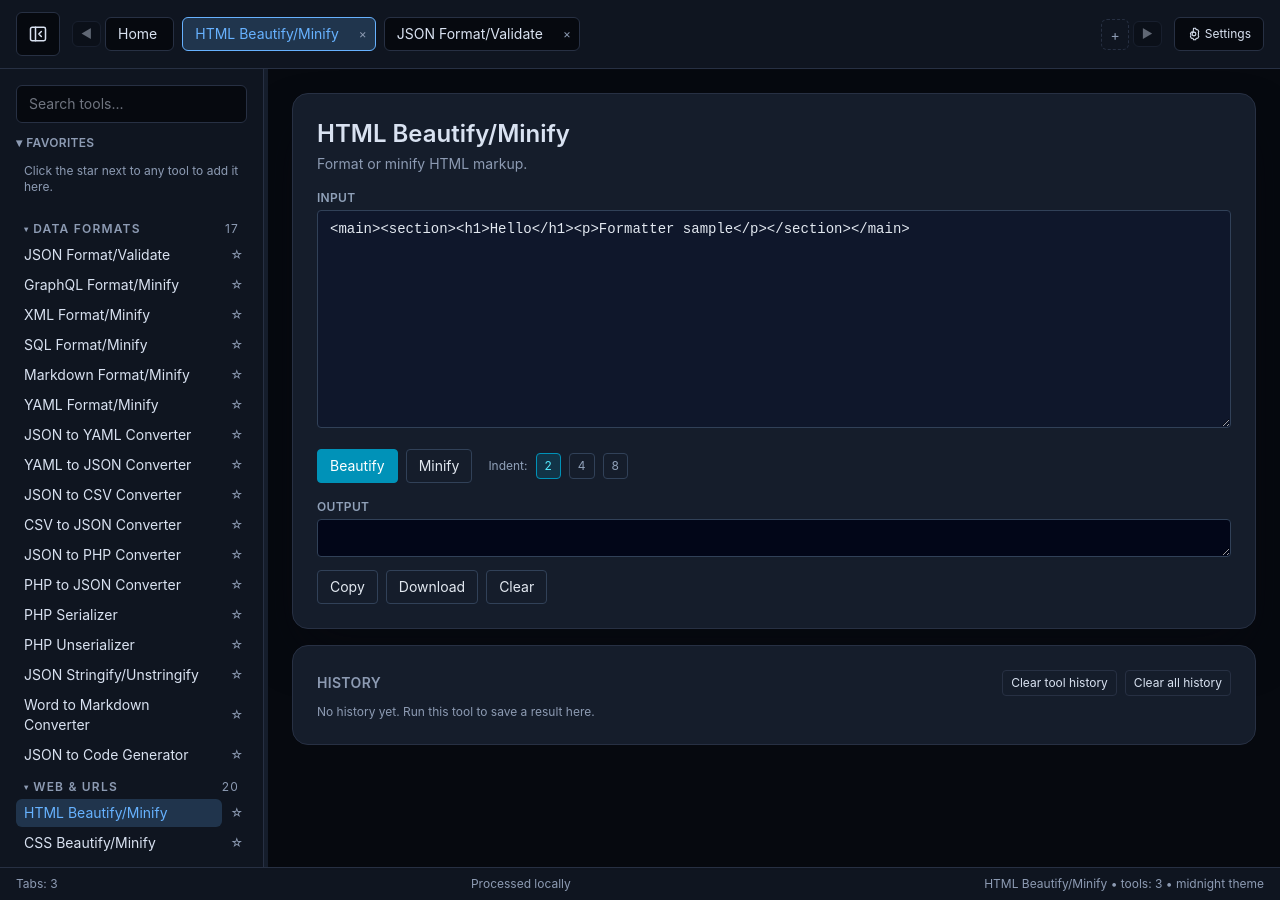
Test: App UI › restores session tabs only when the startup setting requests them
The image size is (1280, 900).
expect the heading "HTML Beautify/Minify" is shown: met, box [317, 119, 570, 148]
expect the button "Home" is shown: met, box [106, 18, 169, 50]
Click the 2nd button "HTML Beautify/Minify": x=119, y=813 [16, 799, 222, 827]
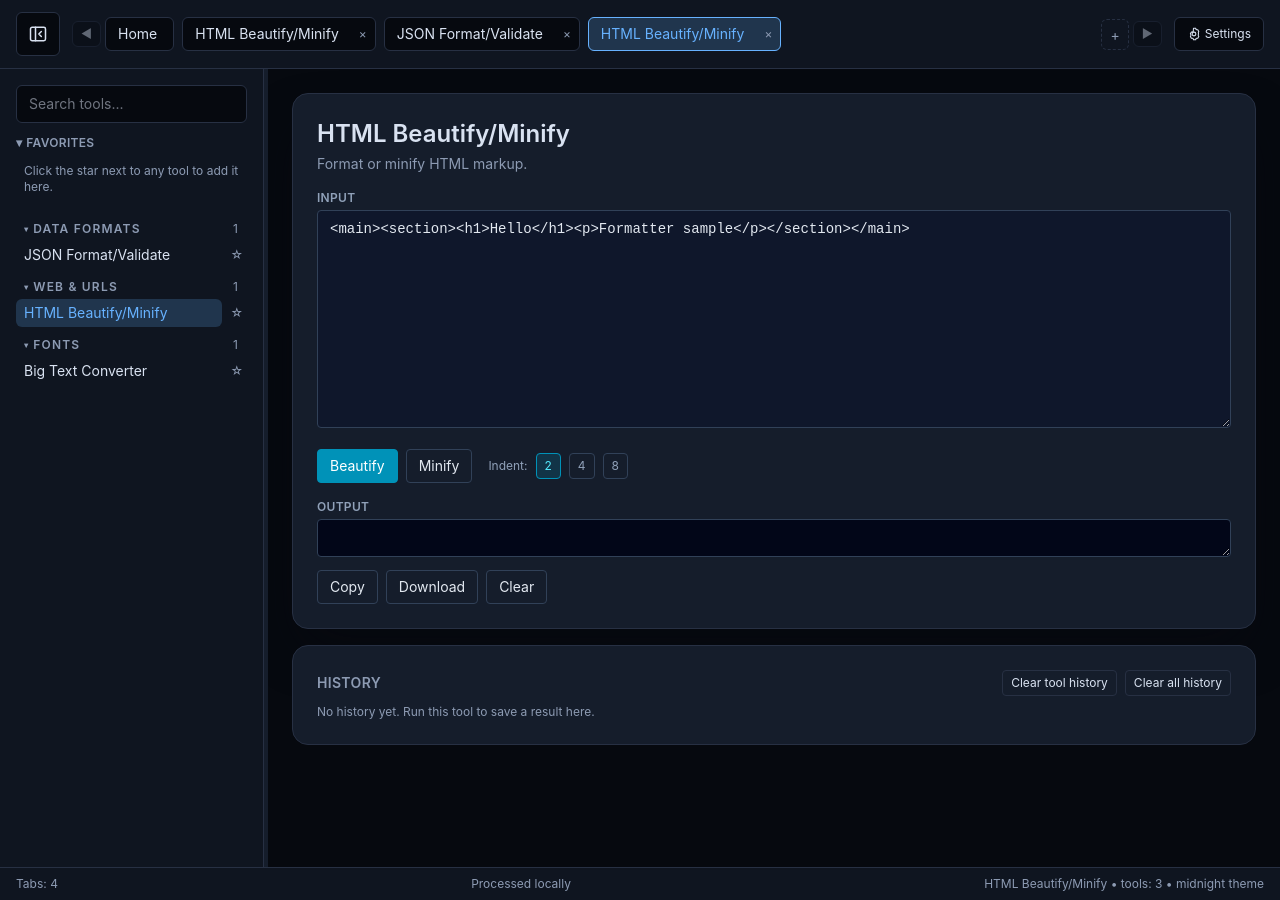
expect the number of buttons named "Close HTML Beautify/Minify" is 2: met, box [355, 24, 371, 44]; [760, 24, 776, 44]
